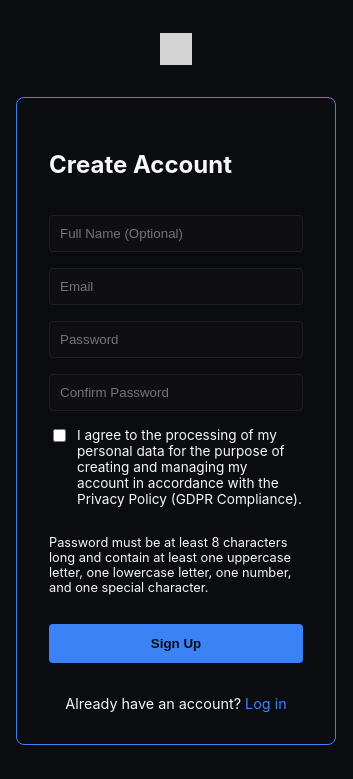
Scenario: SignupPage › displays server error message on API failure
Type "dup@bec-robotics.com" into the field with placeholder "Email" at {"x": 176, "y": 286}, box top-left (49, 268), bottom-right (303, 305)
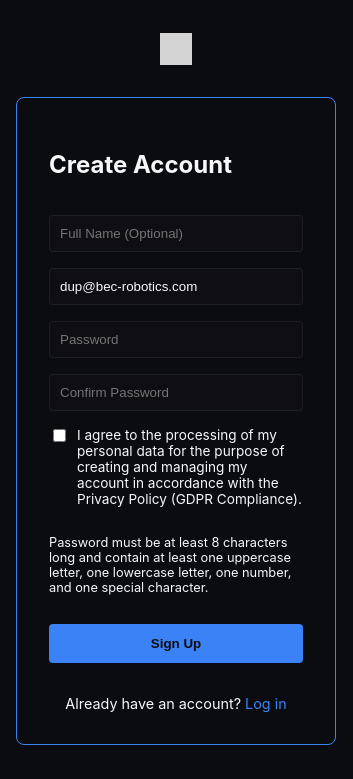
Type "ValidPass@99" into the password field with placeholder "Password" at {"x": 176, "y": 339}, box top-left (49, 321), bottom-right (303, 358)
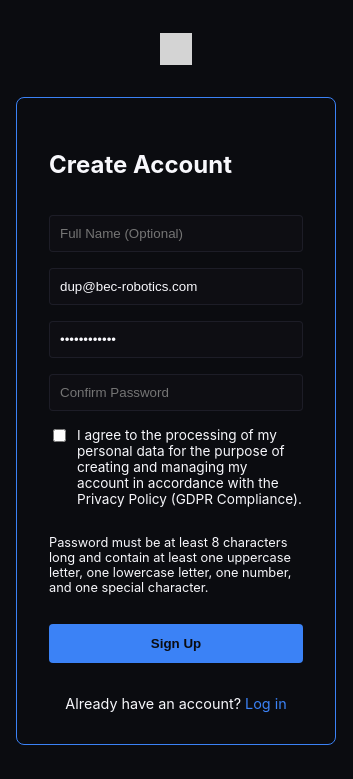
Type "ValidPass@99" into the password field with placeholder "Confirm Password" at {"x": 176, "y": 392}, box top-left (49, 374), bottom-right (303, 411)
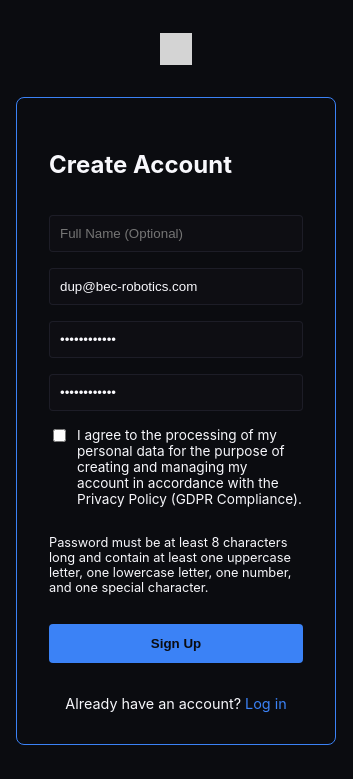
Click the checkbox at {"x": 60, "y": 435}, box top-left (53, 429), bottom-right (66, 442)
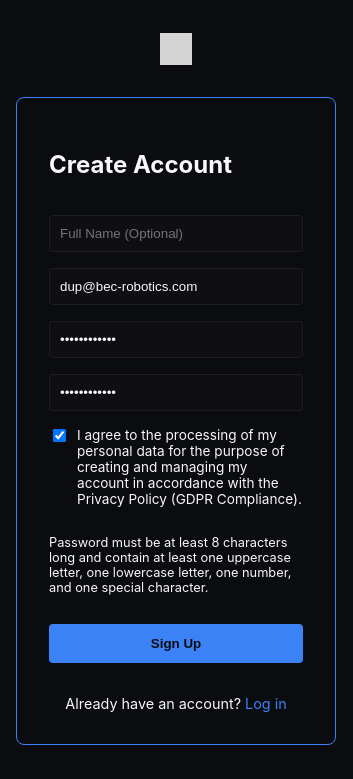
Click the button "Sign Up" at {"x": 176, "y": 644}, box top-left (49, 624), bottom-right (303, 663)
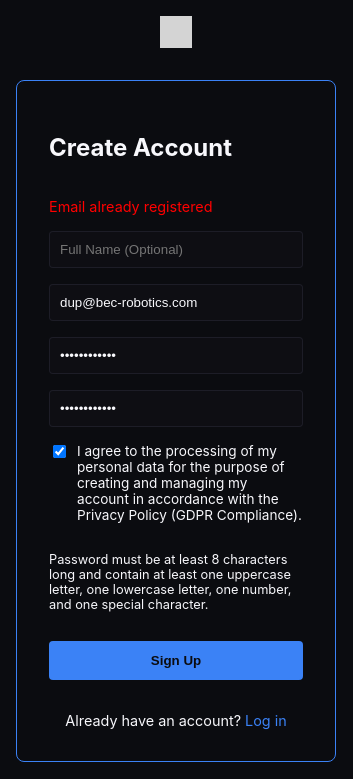
Expected: the text "Email already registered" is shown, top-left (49, 198), bottom-right (212, 215)
